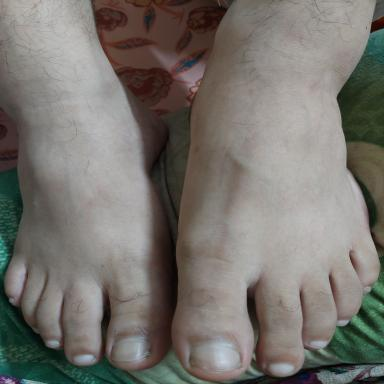normal skin: (1, 0, 379, 382)
